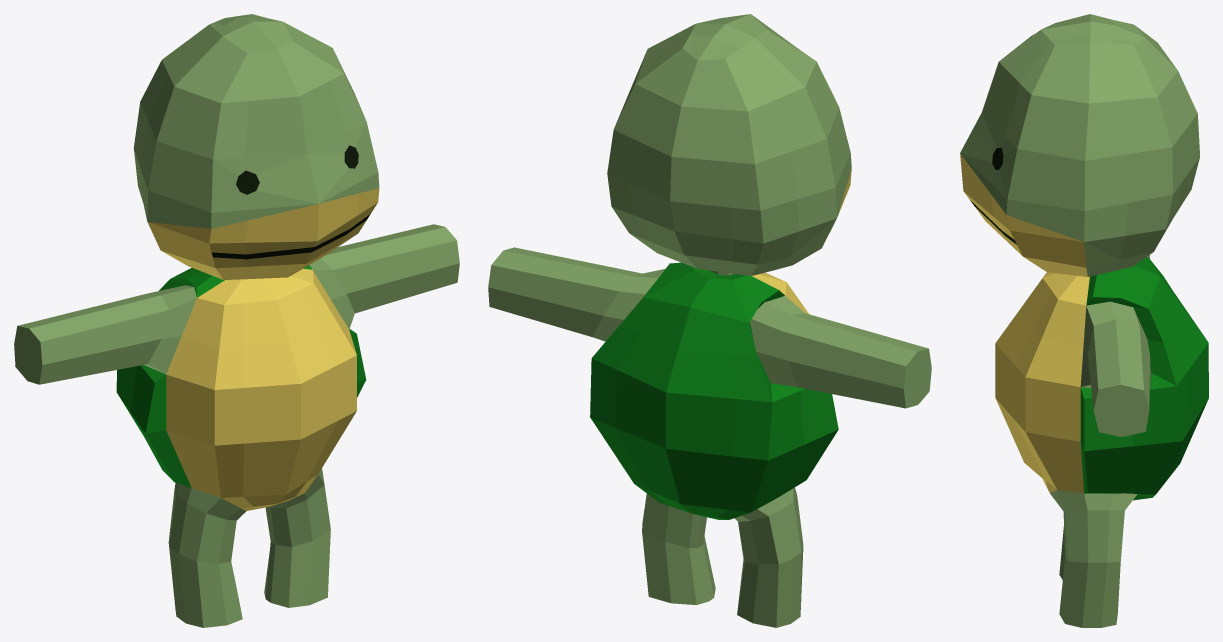
The model's file is people-characters-turtle-306.glb.
3 views of the same model, side by side, from view 1: azimuth 30°, elevation 25°; view 2: azimuth 150°, elevation 25°; view 3: azimuth 270°, elevation 25° (orthographic).
Parts seen in each view (by area): view 1: Cube; view 2: Cube; view 3: Cube.
Boxes of the visible parts, left/top/right/bottom form: Cube: left=14, top=14, right=459, bottom=627; Cube: left=488, top=14, right=931, bottom=627; Cube: left=960, top=14, right=1208, bottom=627.
Size of the model in its own units: 1.71 by 2.27 by 0.893.
